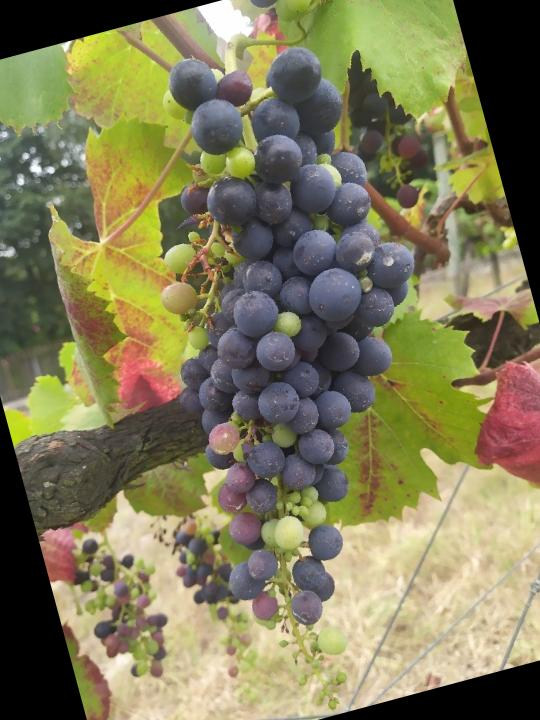grape: (102, 14, 522, 720), (147, 496, 281, 720), (59, 524, 184, 697)
